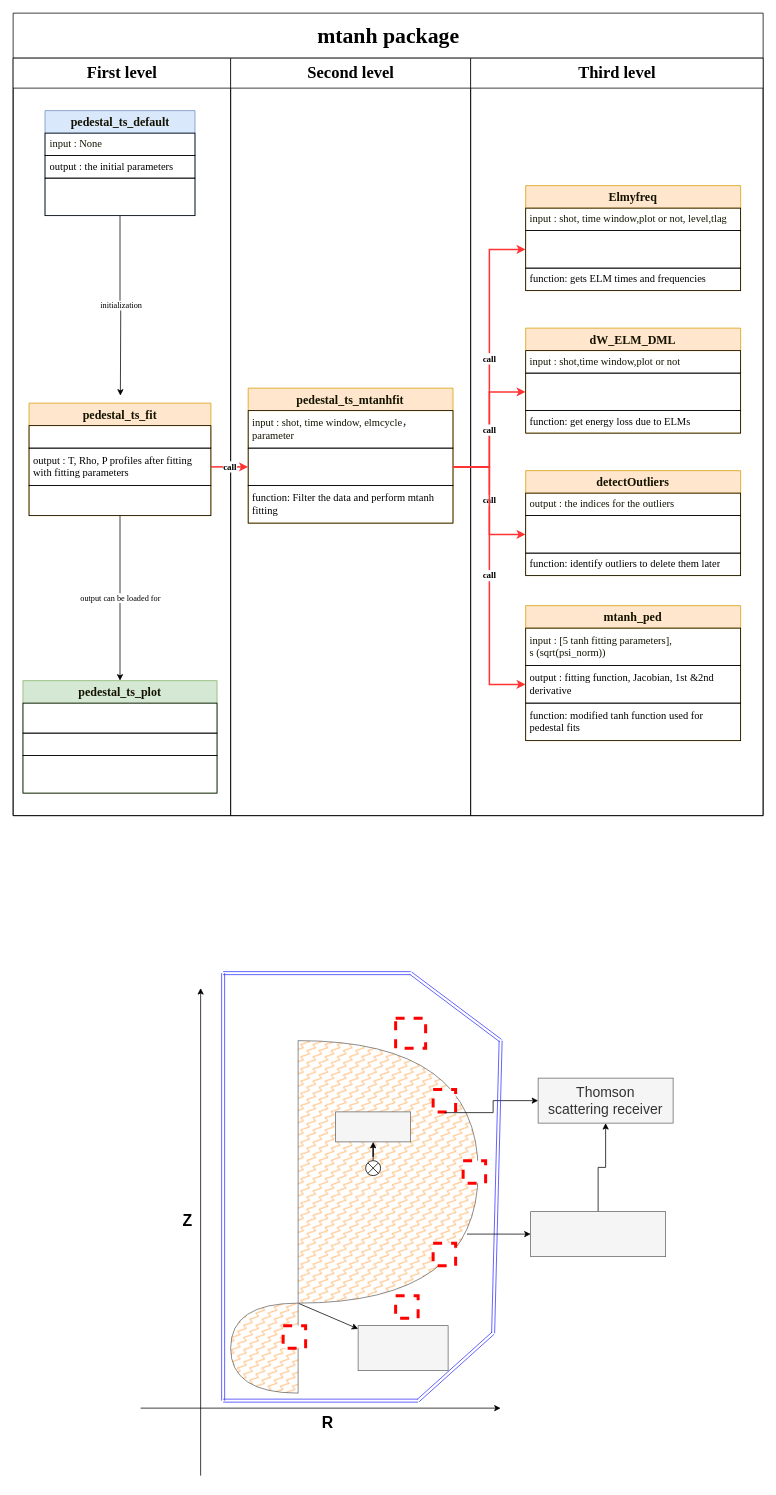
The diagram is 776 pixels wide and 1495 high, and some of its shapes have lost their labels. The shapes that lost their labels are listed below. From the top down, each one's centre as x and y in pixels, then its label:
[119,196]: function: set parameters for fitting
[633,249]: output : Elm information
[633,391]: output : change and value of plasma energy
[119,436]: input : shot, time window, parameters
[350,466]: output : data after fitting and fitting pictures
[119,500]: function: main funtion（with extra fitting）
[633,534]: input : s (sqrt(psi_norm)) : ,tempreture
[119,717]: input : the data from "load expfit_xxx.mat"
[119,744]: function: get the fitting picture
[119,774]: output : the fitting picture for tempreture and rho
[373,1126]: plasma center
[598,1234]: plasma boundary
[402,1348]: X-point
